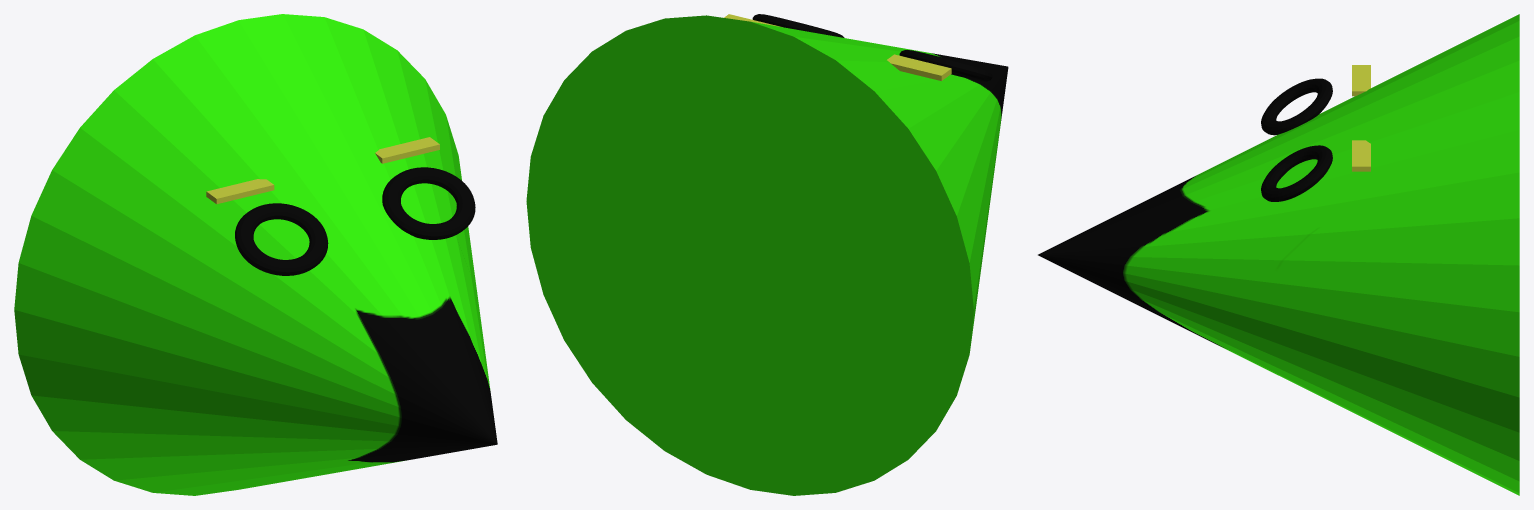
Rendered from Player.obj.
The picture shows the model from 3 angles, left to right: view 1: azimuth 30°, elevation 25°; view 2: azimuth 150°, elevation 25°; view 3: azimuth 270°, elevation 25°; orthographic projection. The views are drawn at different scales.
Parts seen in each view (by area): view 1: 円錐, Torus, Torus.001, Cube, Cube.001; view 2: 円錐, Torus, Cube, Torus.001; view 3: 円錐, Torus.001, Torus, Cube.001, Cube.
Boxes of the visible parts, x1,y1,x2,y2 form: 円錐: (14, 14, 497, 495); Torus: (235, 203, 328, 275); Torus.001: (382, 167, 475, 239); Cube: (206, 179, 274, 204); Cube.001: (375, 137, 439, 163); 円錐: (526, 15, 1008, 495); Torus: (899, 50, 992, 81); Cube: (887, 54, 951, 80); Torus.001: (752, 14, 844, 37); 円錐: (1038, 14, 1519, 495); Torus.001: (1261, 145, 1332, 201); Torus: (1261, 78, 1332, 135); Cube.001: (1352, 140, 1370, 171); Cube: (1352, 65, 1370, 96).
Bounding box in the file's own units: 2 × 2 × 2.
